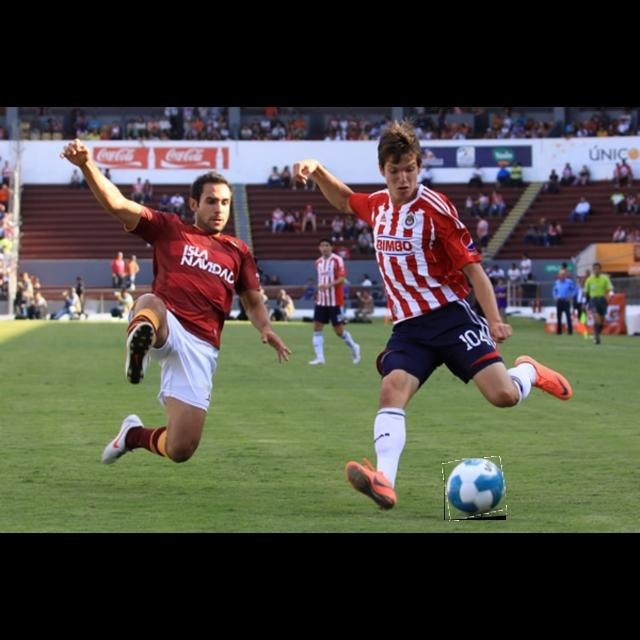Football: (444, 458, 506, 520)
